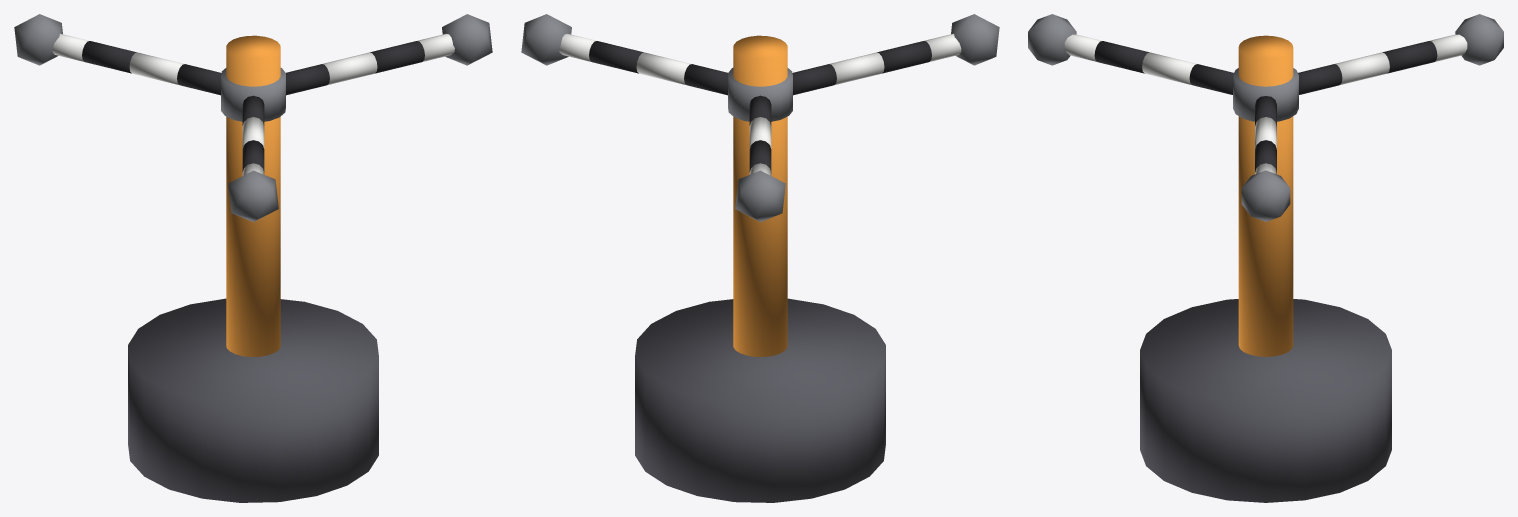
File: rotating_obstacle.glb
The picture shows the model from 3 angles, left to right: view 1: azimuth 30°, elevation 25°; view 2: azimuth 150°, elevation 25°; view 3: azimuth 270°, elevation 25°; orthographic projection.
Visible parts, largest first — view 1: obstacle_base, obstacle_rotor; view 2: obstacle_base, obstacle_rotor; view 3: obstacle_base, obstacle_rotor.
Boxes of the visible parts, box(x1,y1,x2,y2) form: obstacle_base: box(128, 298, 378, 502); obstacle_rotor: box(14, 14, 492, 356); obstacle_base: box(635, 298, 885, 502); obstacle_rotor: box(521, 14, 999, 356); obstacle_base: box(1140, 299, 1391, 502); obstacle_rotor: box(1028, 14, 1503, 356).
Size of the model in its own units: 3.84 by 4.05 by 4.34.
